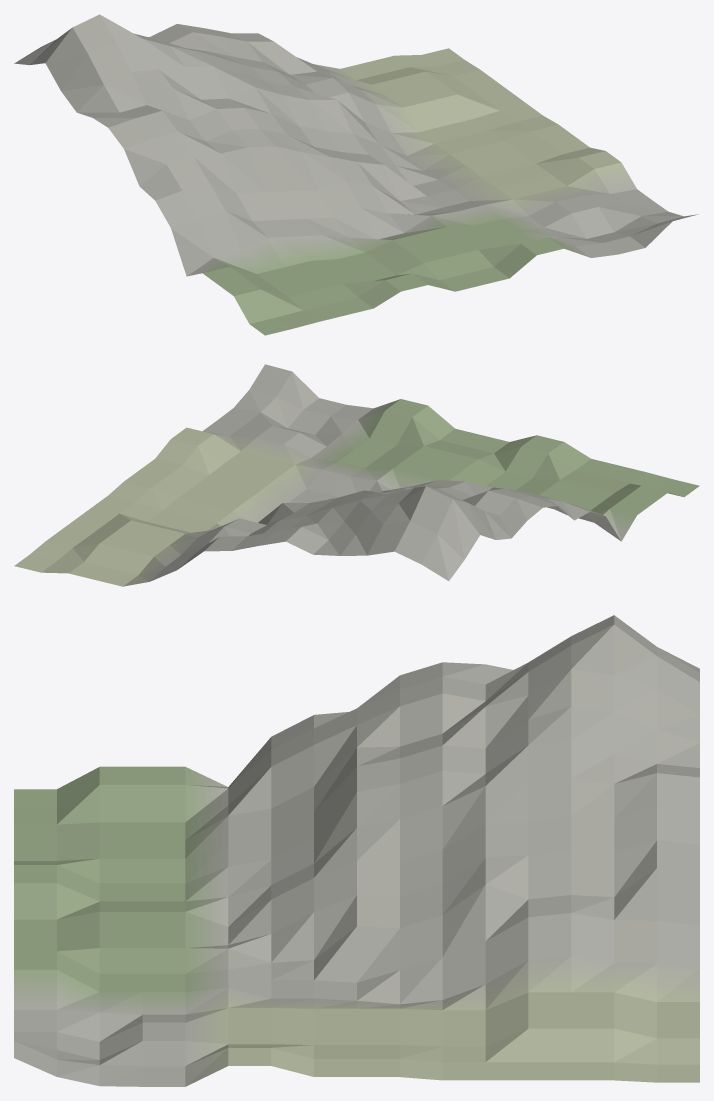
3 renders of one model, top to bottom at view 1: azimuth 30°, elevation 25°; view 2: azimuth 150°, elevation 25°; view 3: azimuth 270°, elevation 25°, orthographic. The views are drawn at different scales.
Size of the model in its own units: 32 by 11.23 by 32.
